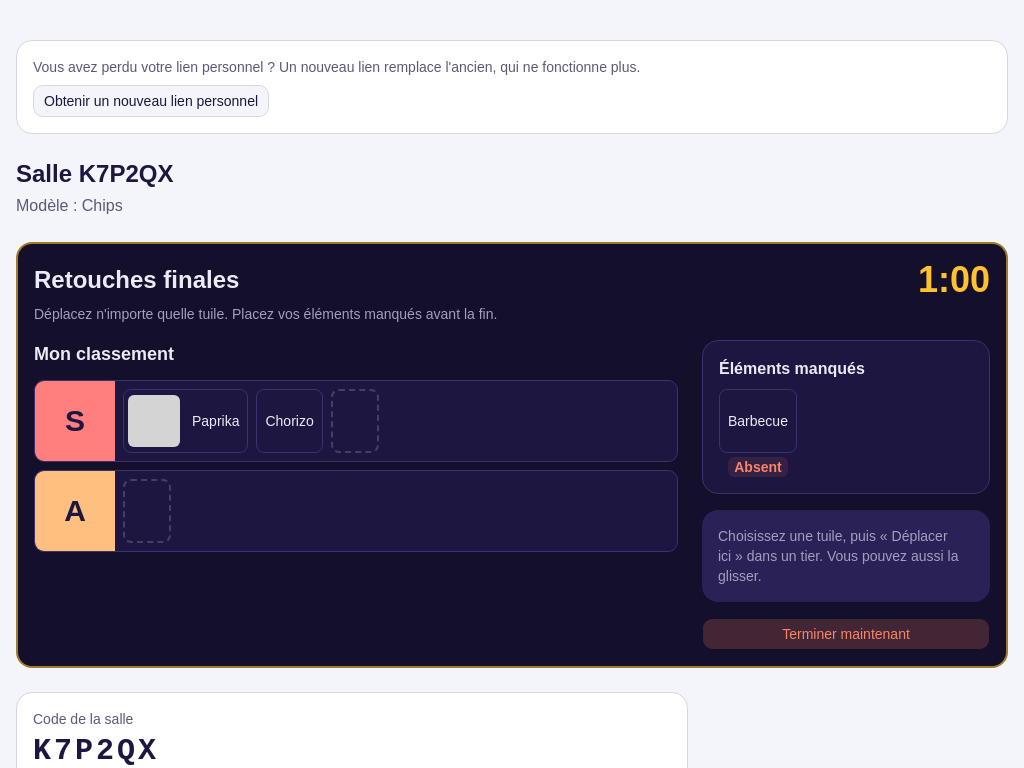
GameScreen › during the final cooldown › moves a chosen tile to the end of a tier
The image size is (1024, 768).
Click the button with aria-label "Choisir Paprika": (186, 421) [123,389,248,453]
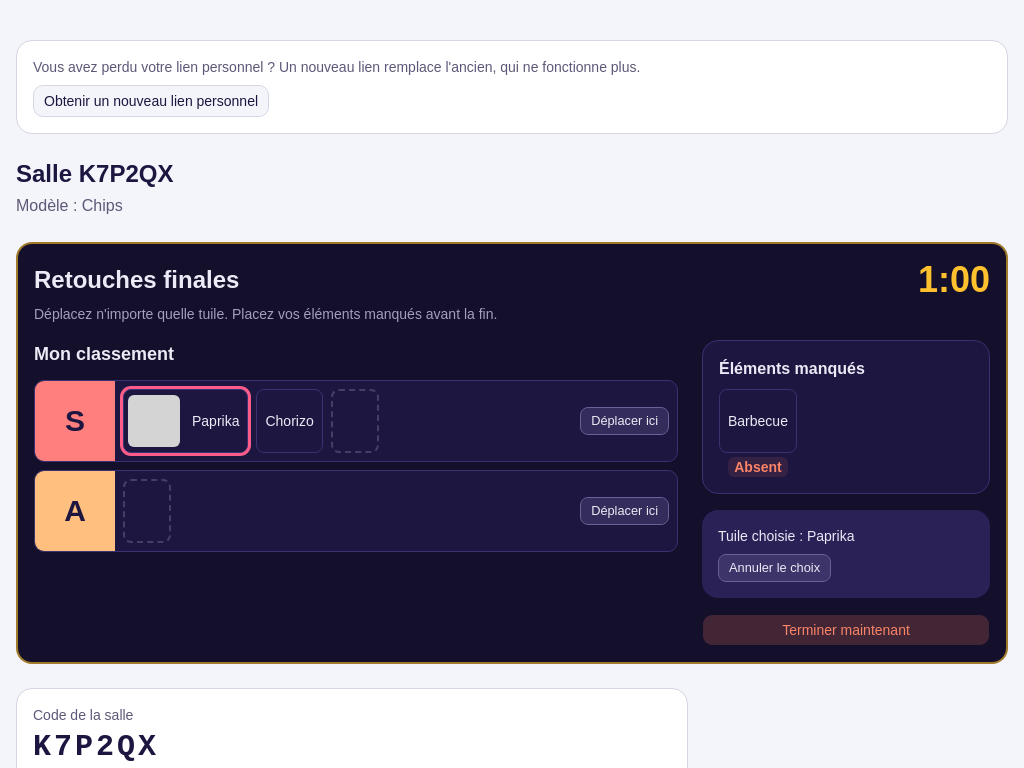
Result: the text "Tuile choisie : Paprika" is shown at [718,528,854,544]
Click the button with aria-label "Déplacer Paprika à la fin de A": (625, 511) [580,497,669,525]
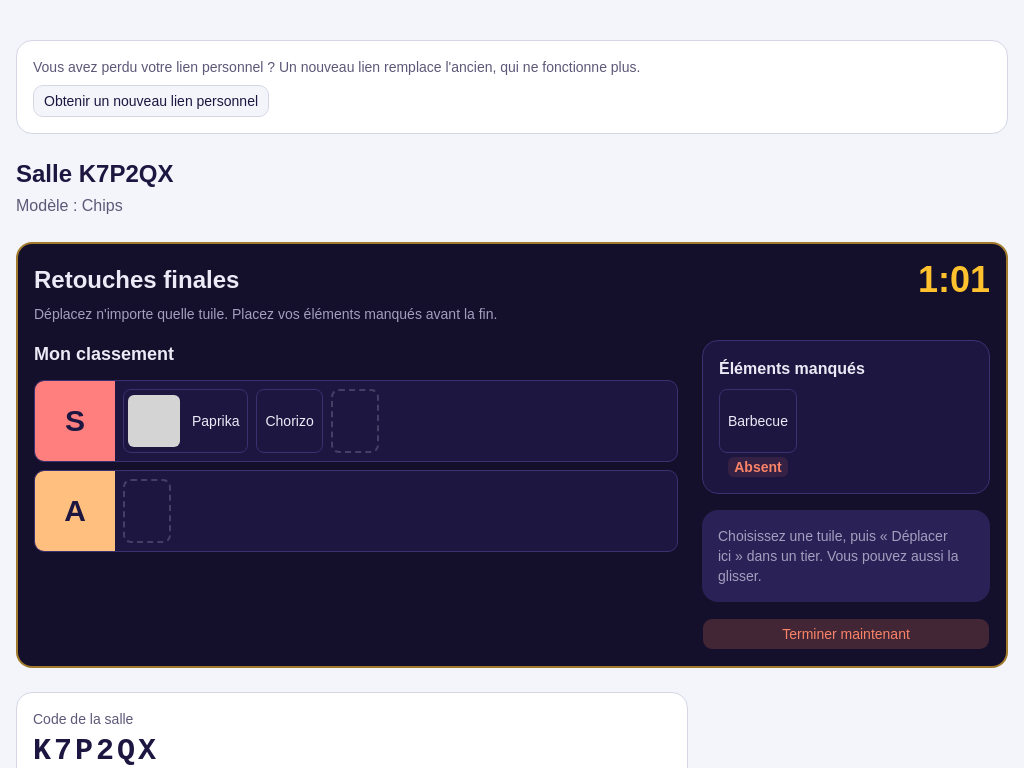
Result: the text "Tuile choisie : Paprika" is gone
